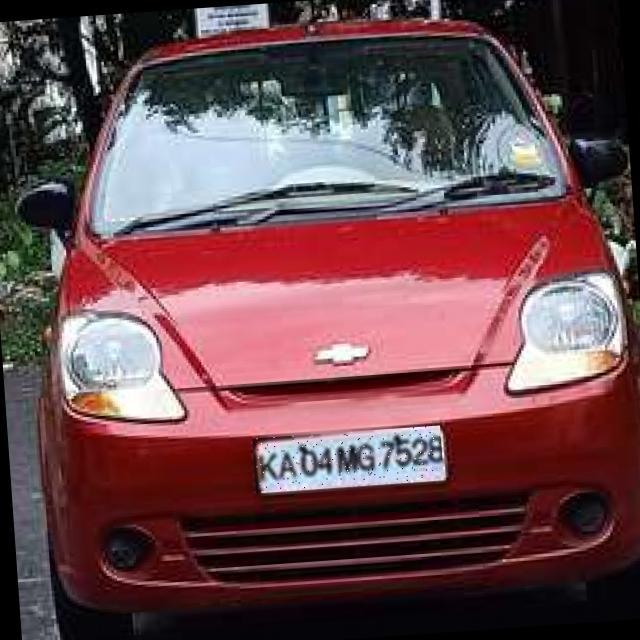Plate: (253, 426, 444, 492)
